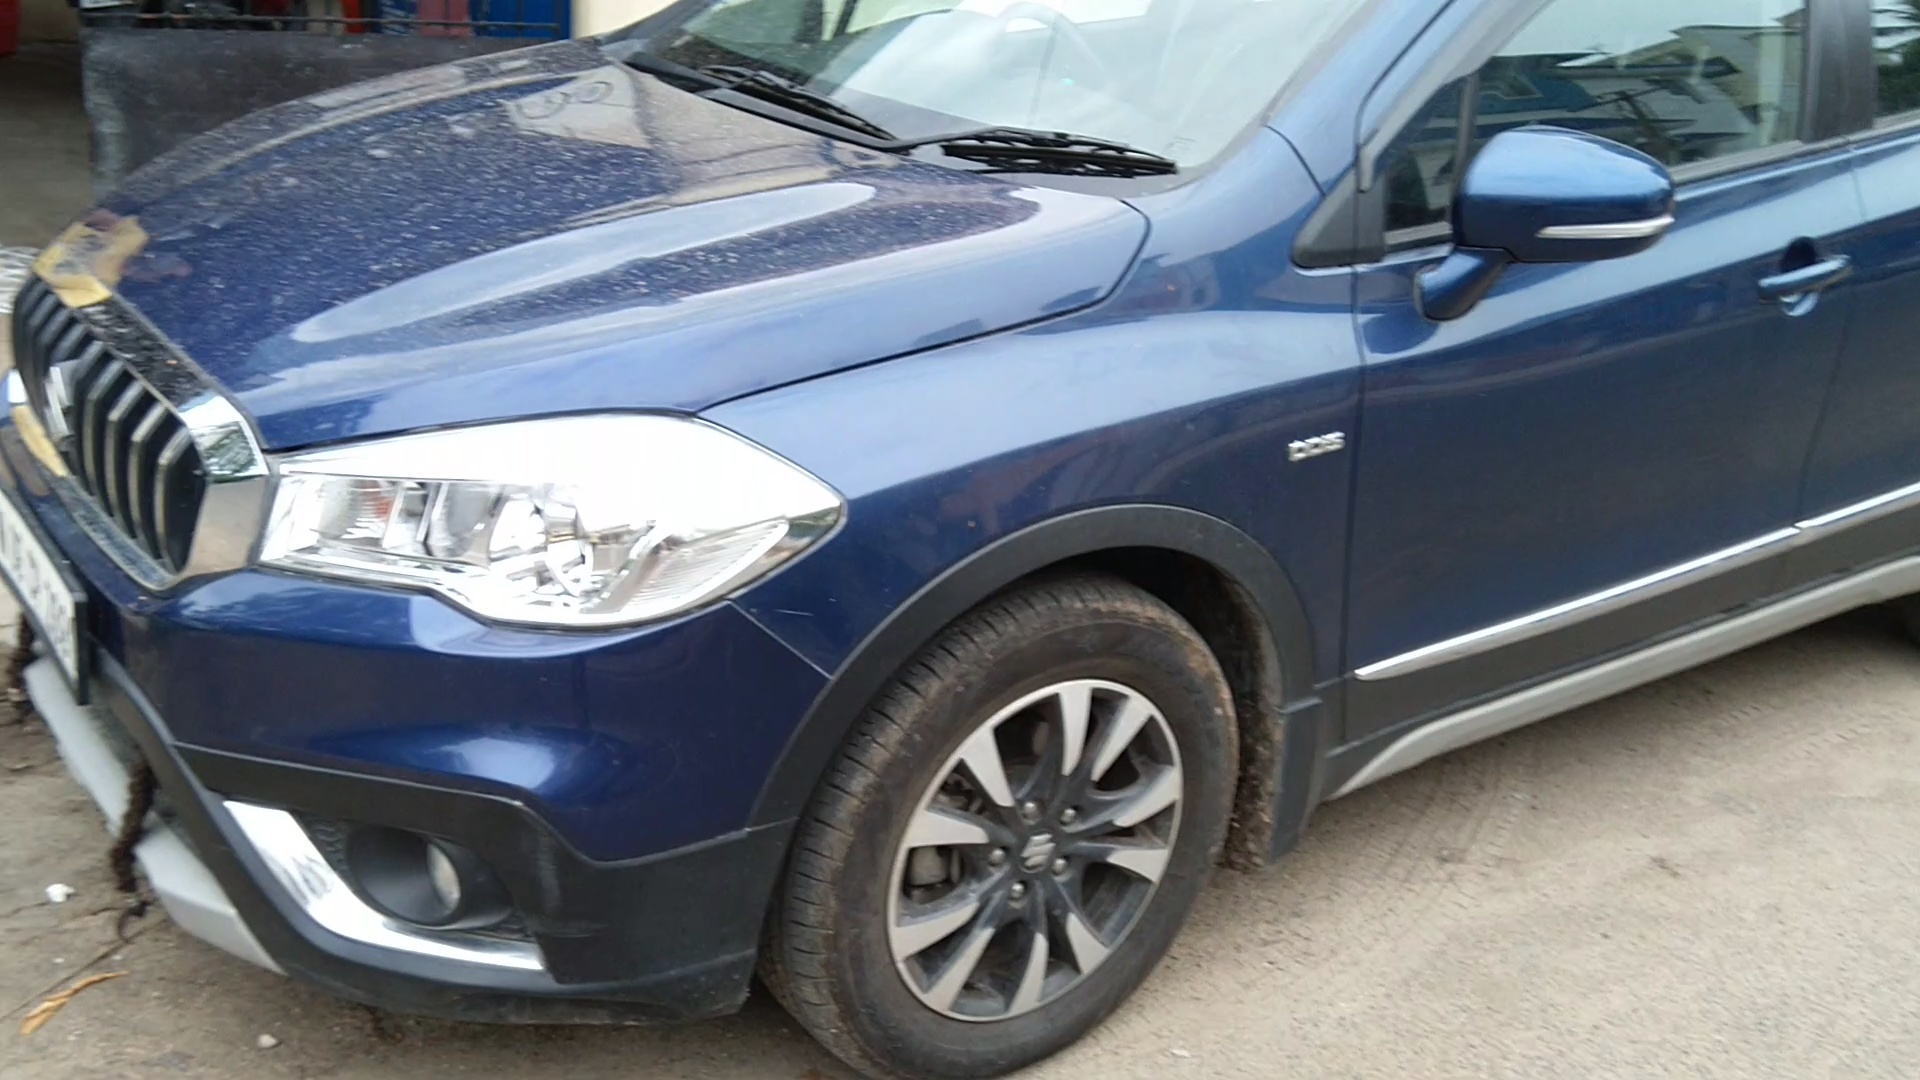alloy_wheel: (825, 584, 1241, 1080)
front_grill: (1, 211, 229, 593)
headlamp: (258, 405, 851, 640)
ovr_mirror: (1455, 111, 1679, 284)
